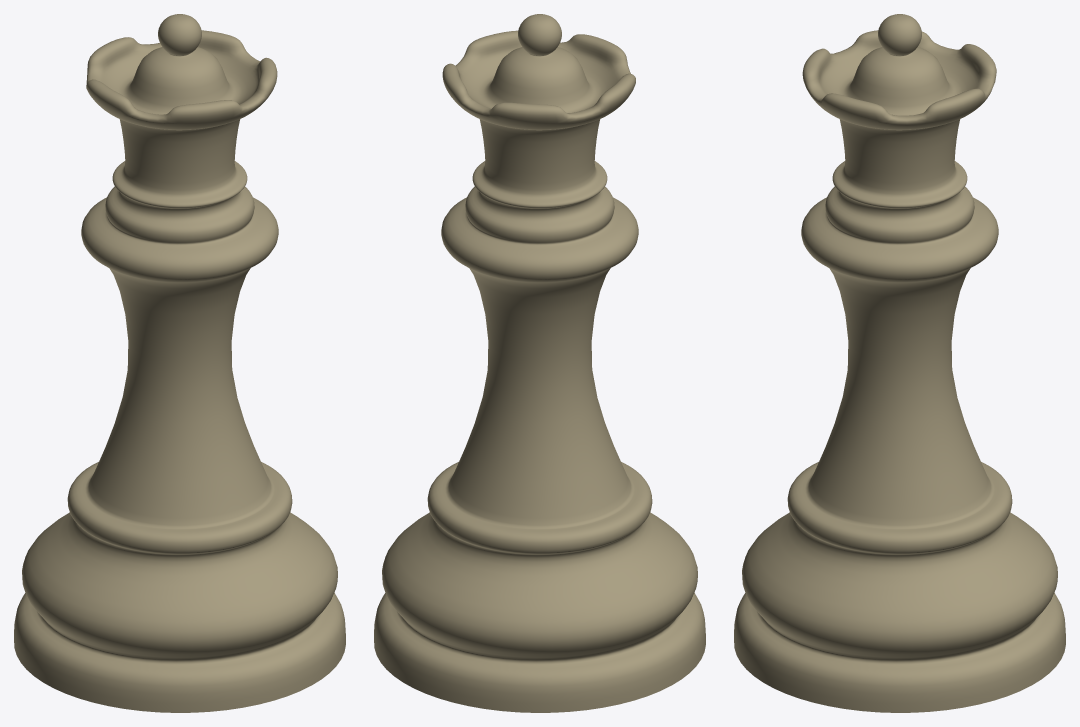
File: queen.obj
The picture shows the model from 3 angles, left to right: view 1: azimuth 30°, elevation 25°; view 2: azimuth 150°, elevation 25°; view 3: azimuth 270°, elevation 25°; orthographic projection.
Parts seen in each view (by area): view 1: Circle.010; view 2: Circle.010; view 3: Circle.010.
Boxes of the visible parts, bbox=[...] form: Circle.010: bbox=[14, 14, 345, 712]; Circle.010: bbox=[374, 14, 705, 712]; Circle.010: bbox=[734, 14, 1065, 712].
Size of the model in its own units: 1.61 by 3.34 by 1.61.
